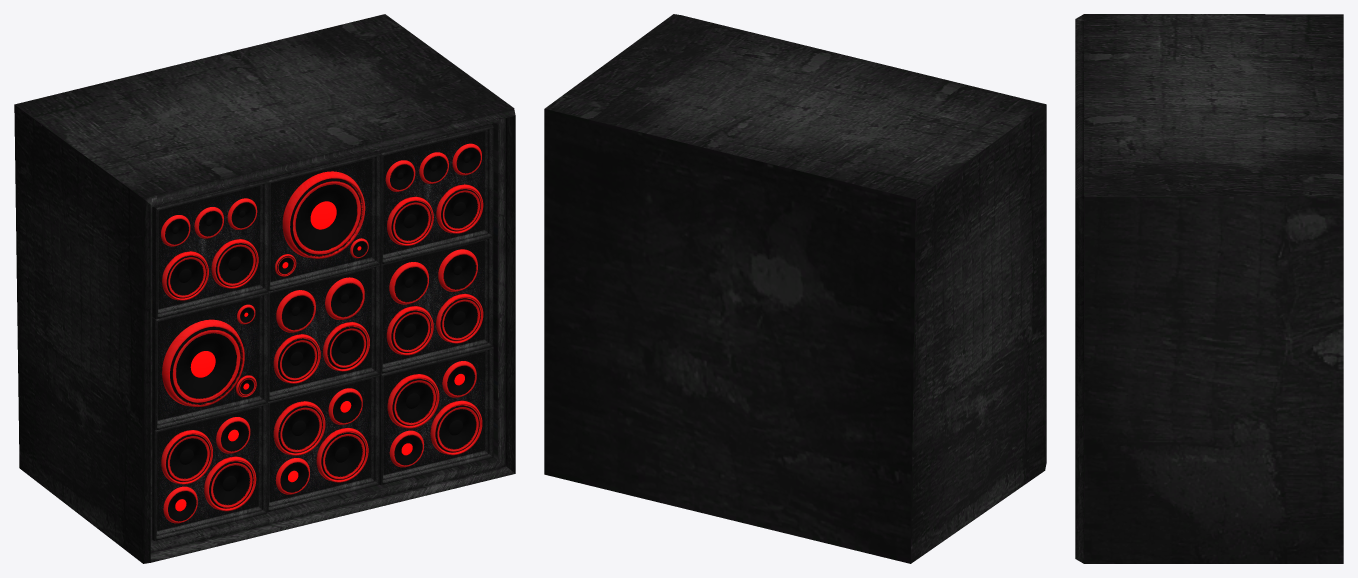
Rendered from Big mon.fbx.
3 views of the same model, side by side, from view 1: azimuth 30°, elevation 25°; view 2: azimuth 150°, elevation 25°; view 3: azimuth 270°, elevation 25° (orthographic).
Visible parts, largest first — view 1: Object_16; view 2: Object_16; view 3: Object_16.
Boxes of the visible parts, x1,y1,x2,y2 form: Object_16: [14, 14, 515, 563]; Object_16: [544, 14, 1046, 563]; Object_16: [1075, 14, 1343, 563].
Size of the model in its own units: 87.5 by 82.37 by 54.51.
Materials: 3 (2 with a texture image).
